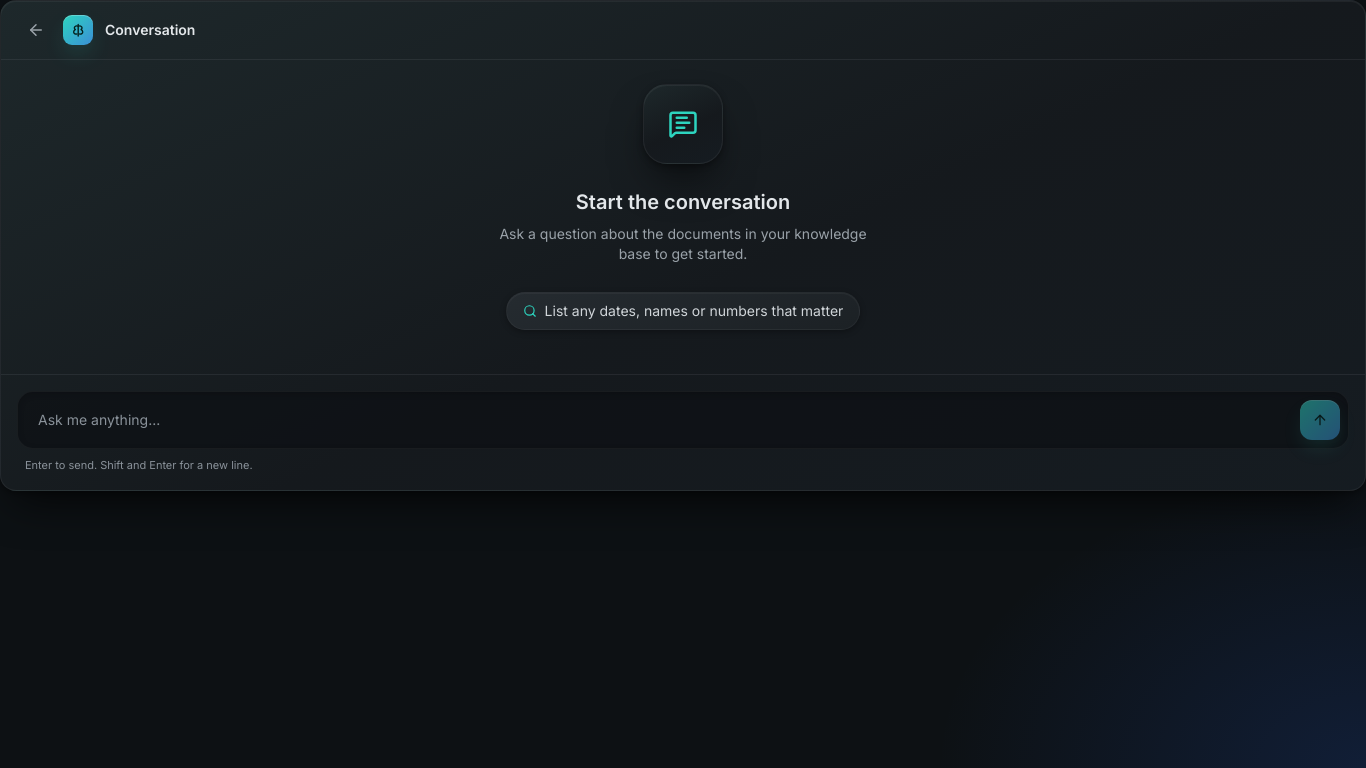
it: chat streaming › C06 a rejected request shows the server message and removes the empty answer
Expected: the heading "Start the conversation" is shown, x1=576 y1=188 x2=790 y2=216
Type "Question" into the text box named "Message".
click(659, 420); type("Question")  # box x1=26 y1=400 x2=1292 y2=440
Then press Enter
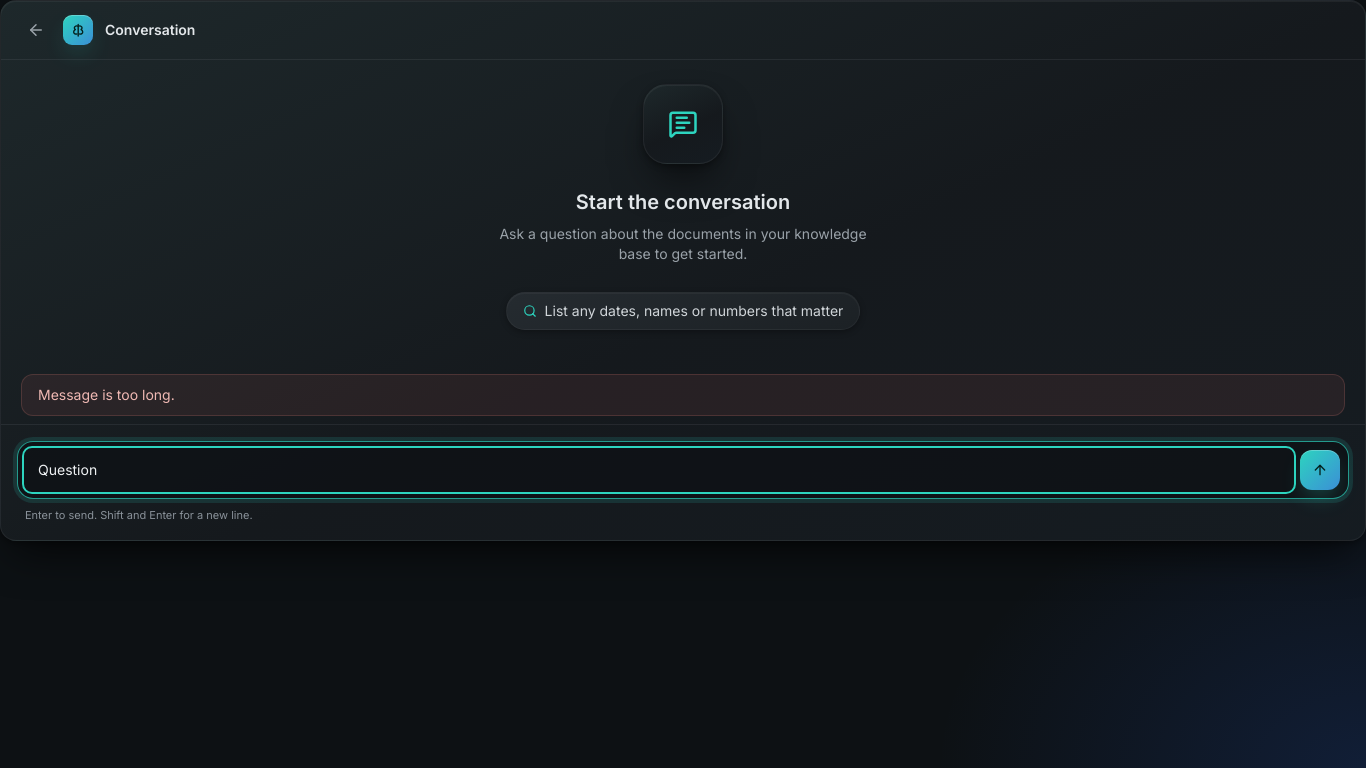
Expected: the button named "Send" is shown, x1=1300 y1=450 x2=1340 y2=490
Expected: the message reads "Message is too long.", x1=38 y1=386 x2=175 y2=403
